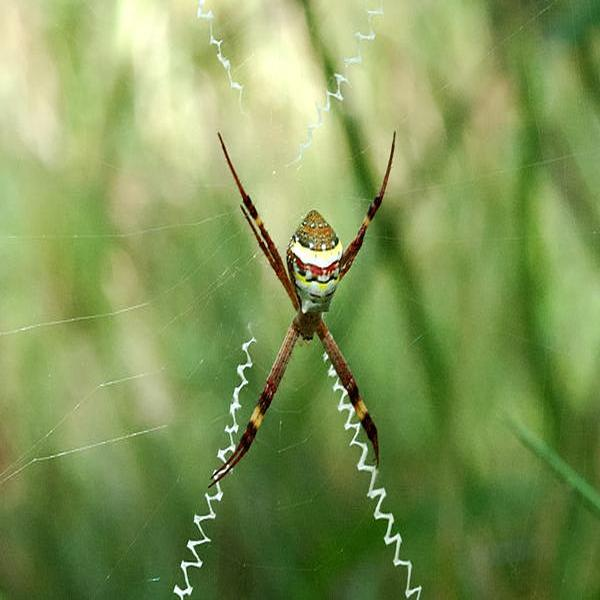St Andrew's Cross Spider: (212, 131, 398, 477)
